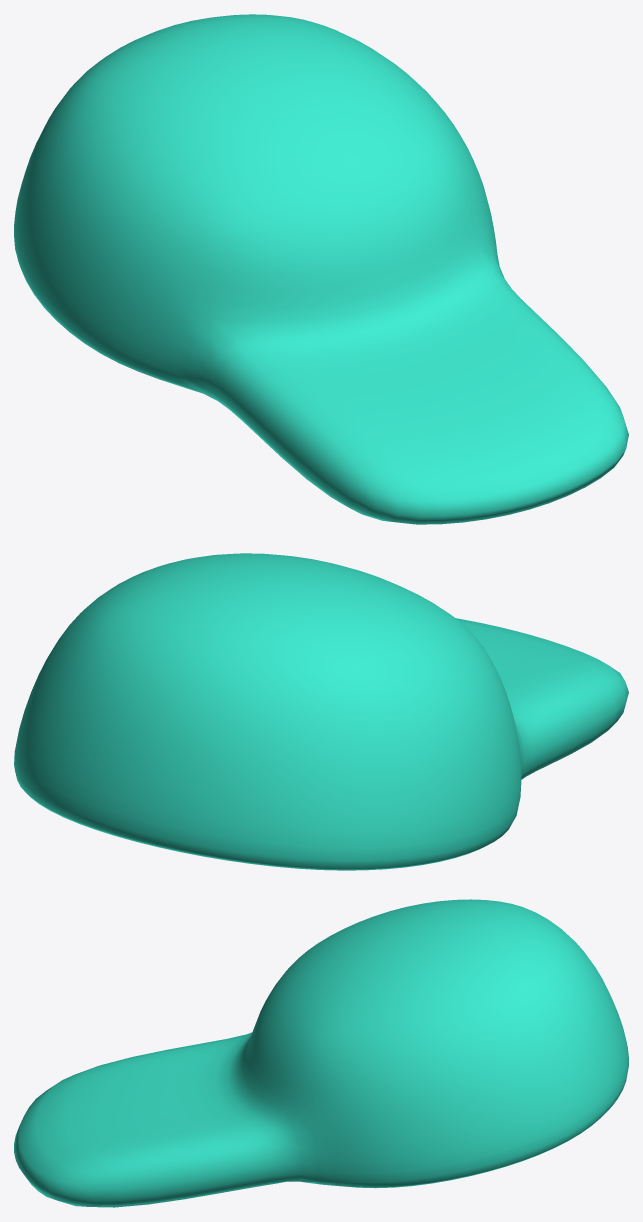
Rendered from hat_model_1.gltf.
3 renders of one model, top to bottom at view 1: azimuth 30°, elevation 25°; view 2: azimuth 150°, elevation 25°; view 3: azimuth 270°, elevation 25°, orthographic. The views are drawn at different scales.
Parts seen in each view (by area): view 1: hat; view 2: hat; view 3: hat.
Boxes of the visible parts, box(x1,y1,x2,y2) form: hat: box(14, 14, 628, 524); hat: box(14, 553, 628, 870); hat: box(14, 899, 628, 1207).
Bounding box in the file's own units: 0.4154 × 0.273 × 0.6511.
